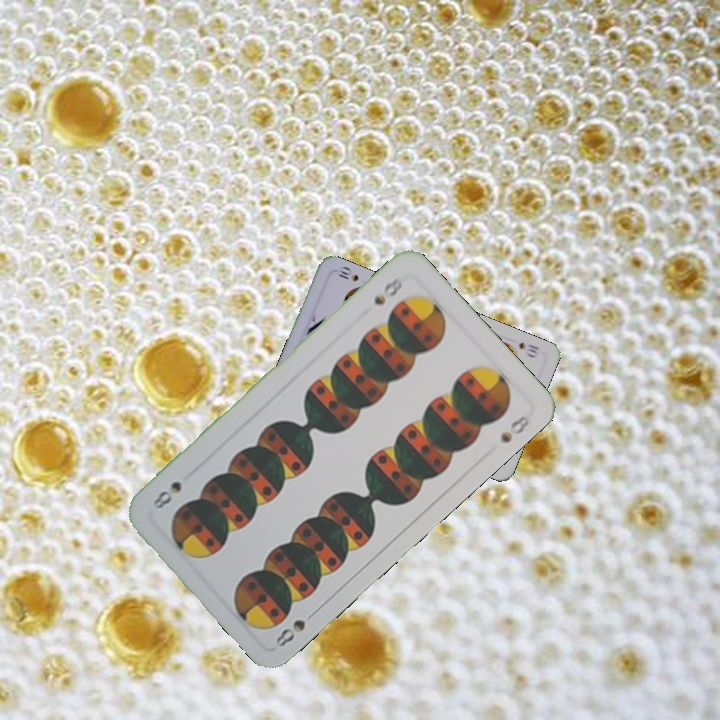S10: (515, 338, 541, 360)
S8: (271, 605, 321, 650), (369, 273, 406, 308)
